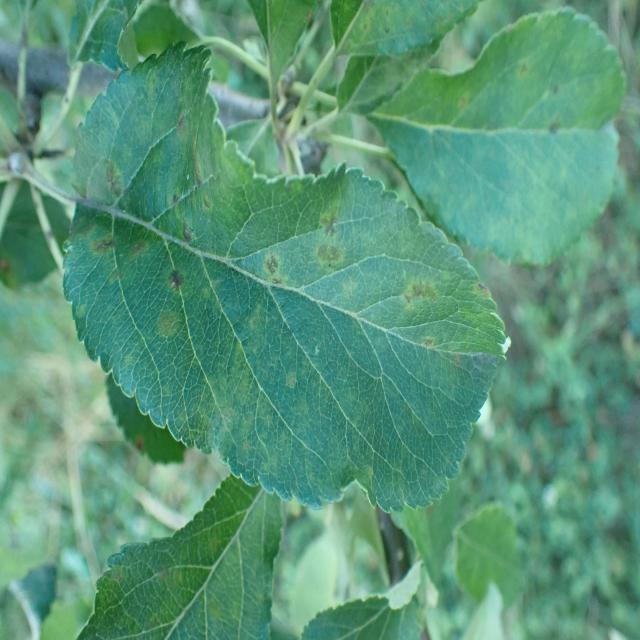scab: (58, 85, 494, 493), (393, 32, 621, 235), (80, 505, 286, 640)
